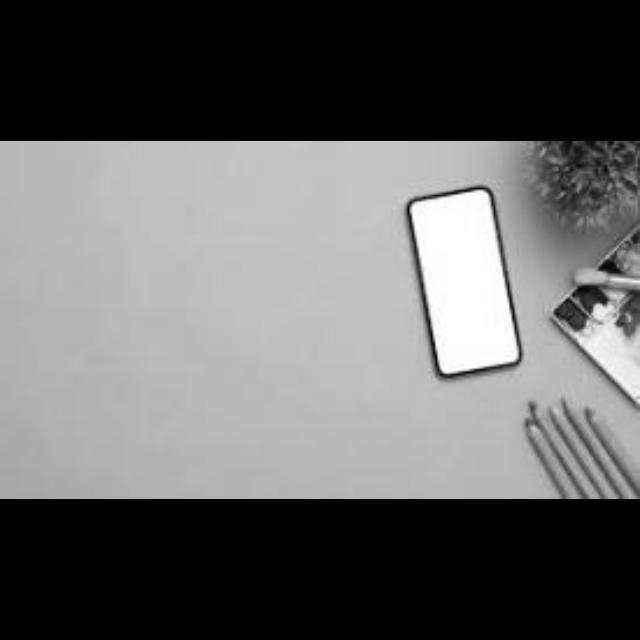fake: (405, 183, 523, 381)
